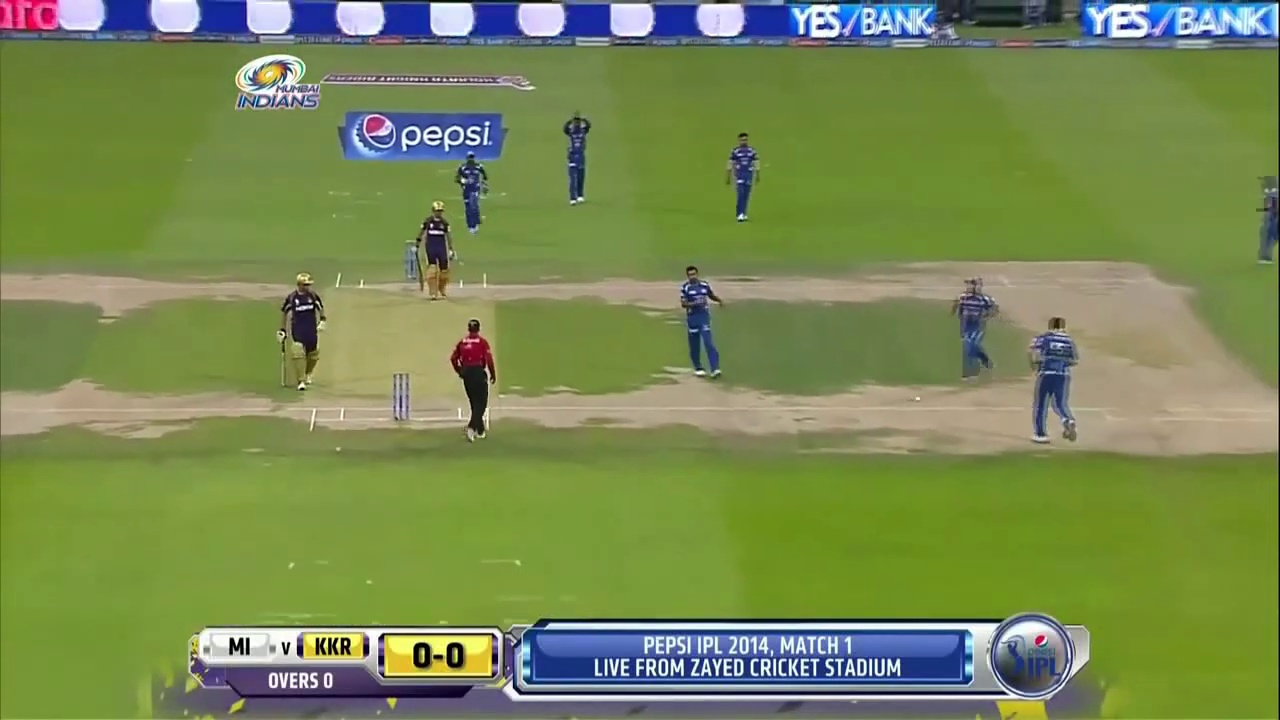bat: (281, 345, 287, 386)
stumps: (392, 371, 411, 423)
